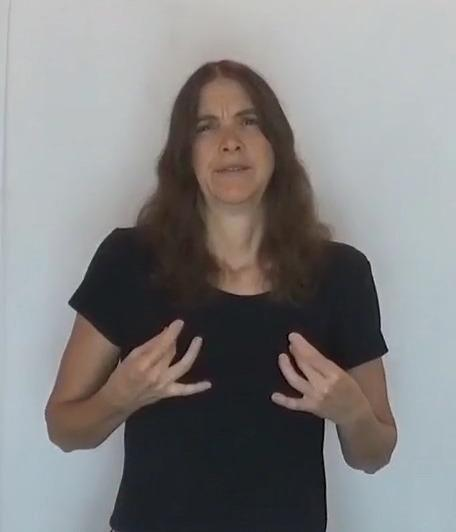Dolor: (30, 44, 411, 505)
